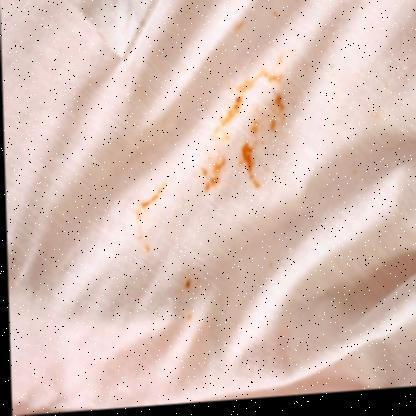kimchi: (131, 213, 156, 258), (240, 145, 263, 191), (200, 160, 229, 196), (134, 185, 173, 208), (237, 73, 284, 88), (270, 91, 291, 120), (210, 115, 238, 130), (233, 19, 251, 36), (267, 118, 282, 136), (225, 96, 243, 111), (179, 275, 195, 290), (275, 53, 289, 68), (248, 115, 259, 134), (271, 10, 286, 23), (185, 310, 198, 324), (369, 110, 378, 120)
